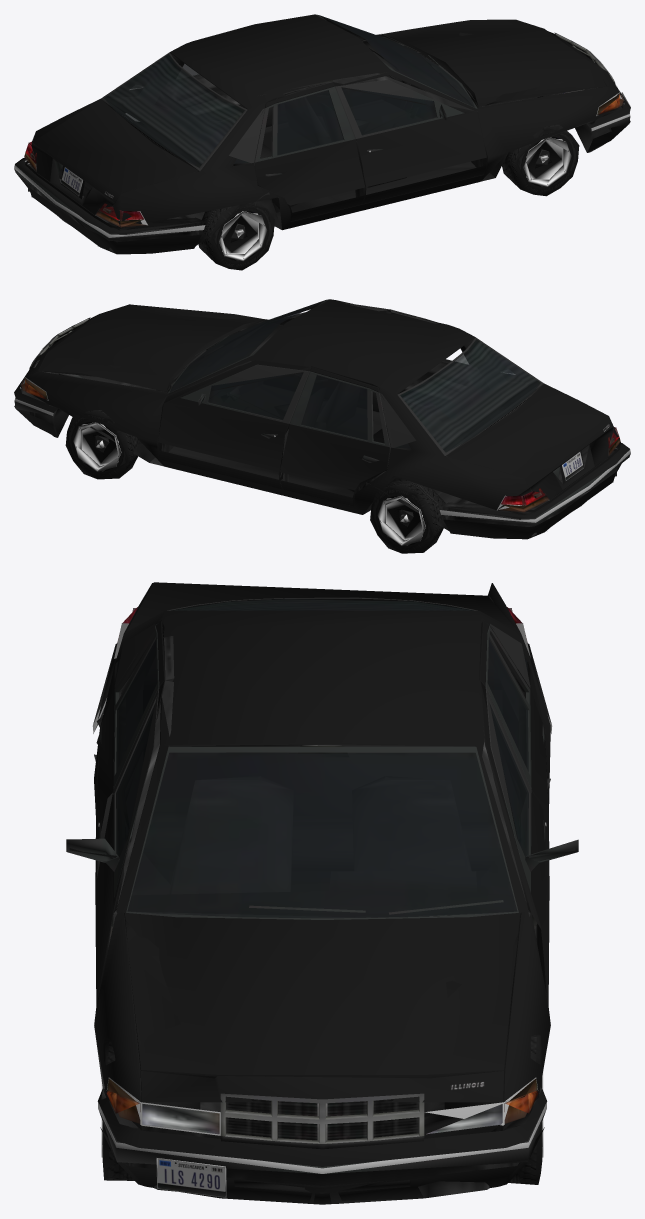
File: v_illinois90_lod.glb
3 views of the same model, one above another, from view 1: azimuth 30°, elevation 25°; view 2: azimuth 150°, elevation 25°; view 3: azimuth 270°, elevation 25° (orthographic). The views are drawn at different scales.
Visible parts, largest first — view 1: Illinois90_Body_Illinois90_Bodymat_0, Illinois90_Interior_UCB_Interiors_2_0, Illinois90_Hood_Illinois90_Bodymat_0, Illinois90_Bottom_UCB_BOTTOM_0, Illinois90_Trunkdoor_Illinois90_Bodymat_0, Illinois90_Rear_Glass_UCB_Lights_and_Glass_Transperent_0, Illinois90_WheelStock_RR_RB1c_Tire_1k_0, Illinois90_WheelStock_FR_RB1c_Tire_1k_0, Illinois90_Body_Glass_UCB_Lights_and_Glass_Transperent_0, Illinois90_Bumper_rear_Illinois90_Bodymat_0, Illinois90_Glass_Passenger_UCB_Lights_and_Glass_Transperent_, Illinois90_Windshield_UCB_Lights_and_Glass_Transperent_0 (+5 smaller); view 2: Illinois90_Body_Illinois90_Bodymat_0, Illinois90_Interior_UCB_Interiors_2_0, Illinois90_Hood_Illinois90_Bodymat_0, Illinois90_Bottom_UCB_BOTTOM_0, Illinois90_Trunkdoor_Illinois90_Bodymat_0, Illinois90_Rear_Glass_UCB_Lights_and_Glass_Transperent_0, Illinois90_WheelStock_RL_RB1c_Tire_1k_0, Illinois90_WheelStock_FL_RB1c_Tire_1k_0, Illinois90_Body_Glass_UCB_Lights_and_Glass_Transperent_0, Illinois90_Bumper_rear_Illinois90_Bodymat_0, Illinois90_glass_Driver_UCB_Lights_and_Glass_Transperent_0, Illinois90_Windshield_UCB_Lights_and_Glass_Transperent_0 (+6 smaller); view 3: Illinois90_Body_Illinois90_Bodymat_0, Illinois90_Interior_UCB_Interiors_2_0, Illinois90_Hood_Illinois90_Bodymat_0, Illinois90_Windshield_UCB_Lights_and_Glass_Transperent_0, Illinois90_Bottom_UCB_BOTTOM_0, Illinois90_Bumper_front_Illinois90_Bodymat_0, Illinois90_Trunkdoor_Illinois90_Bodymat_0, Illinois90_Bumper_front_inner_UCB_BOTTOM_0, Illinois90_Body_Glass_UCB_Lights_and_Glass_Transperent_0, Illinois90_Rear_Glass_UCB_Lights_and_Glass_Transperent_0, Illinois90_Headlights_UCB_Lights_and_Glass_0, Illinois90_Numberplate_front_Numberplates_Misk_U_0 (+5 smaller).
Boxes of the visible parts, box(x1,y1,x2,y2) form: Illinois90_Body_Illinois90_Bodymat_0: box(25, 14, 624, 229); Illinois90_Interior_UCB_Interiors_2_0: box(105, 15, 479, 215); Illinois90_Hood_Illinois90_Bodymat_0: box(379, 19, 606, 106); Illinois90_Bottom_UCB_BOTTOM_0: box(28, 14, 622, 251); Illinois90_Trunkdoor_Illinois90_Bodymat_0: box(32, 99, 198, 214); Illinois90_Rear_Glass_UCB_Lights_and_Glass_Transperent_0: box(104, 54, 244, 167); Illinois90_WheelStock_RR_RB1c_Tire_1k_0: box(198, 201, 274, 270); Illinois90_WheelStock_FR_RB1c_Tire_1k_0: box(502, 124, 579, 196); Illinois90_Body_Glass_UCB_Lights_and_Glass_Transperent_0: box(129, 63, 343, 164); Illinois90_Bumper_rear_Illinois90_Bodymat_0: box(15, 157, 202, 254); Illinois90_Glass_Passenger_UCB_Lights_and_Glass_Transperent_: box(341, 88, 436, 135); Illinois90_Windshield_UCB_Lights_and_Glass_Transperent_0: box(320, 15, 474, 107); Illinois90_Body_Illinois90_Bodymat_0: box(20, 299, 620, 514); Illinois90_Interior_UCB_Interiors_2_0: box(165, 300, 527, 497); Illinois90_Hood_Illinois90_Bodymat_0: box(38, 304, 264, 391); Illinois90_Bottom_UCB_BOTTOM_0: box(21, 299, 616, 536); Illinois90_Trunkdoor_Illinois90_Bodymat_0: box(446, 384, 612, 499); Illinois90_Rear_Glass_UCB_Lights_and_Glass_Transperent_0: box(400, 339, 540, 452); Illinois90_WheelStock_RL_RB1c_Tire_1k_0: box(370, 478, 445, 553); Illinois90_WheelStock_FL_RB1c_Tire_1k_0: box(65, 410, 141, 479); Illinois90_Body_Glass_UCB_Lights_and_Glass_Transperent_0: box(301, 347, 515, 448); Illinois90_Bumper_rear_Illinois90_Bodymat_0: box(441, 443, 629, 539); Illinois90_glass_Driver_UCB_Lights_and_Glass_Transperent_0: box(208, 373, 303, 420); Illinois90_Windshield_UCB_Lights_and_Glass_Transperent_0: box(170, 300, 323, 392); Illinois90_Body_Illinois90_Bodymat_0: box(94, 583, 550, 1130); Illinois90_Interior_UCB_Interiors_2_0: box(118, 632, 526, 917); Illinois90_Hood_Illinois90_Bodymat_0: box(124, 912, 520, 1076); Illinois90_Windshield_UCB_Lights_and_Glass_Transperent_0: box(127, 752, 517, 918); Illinois90_Bottom_UCB_BOTTOM_0: box(66, 597, 578, 1203); Illinois90_Bumper_front_Illinois90_Bodymat_0: box(98, 1089, 546, 1204); Illinois90_Trunkdoor_Illinois90_Bodymat_0: box(126, 582, 518, 631); Illinois90_Bumper_front_inner_UCB_BOTTOM_0: box(97, 1088, 547, 1173); Illinois90_Body_Glass_UCB_Lights_and_Glass_Transperent_0: box(116, 639, 528, 771); Illinois90_Rear_Glass_UCB_Lights_and_Glass_Transperent_0: box(155, 598, 490, 627); Illinois90_Headlights_UCB_Lights_and_Glass_0: box(142, 1104, 502, 1134); Illinois90_Numberplate_front_Numberplates_Misk_U_0: box(156, 1158, 226, 1197).
Size of the model in its own units: 5.17 by 1.37 by 2.08.
8 materials, 7 textured.
